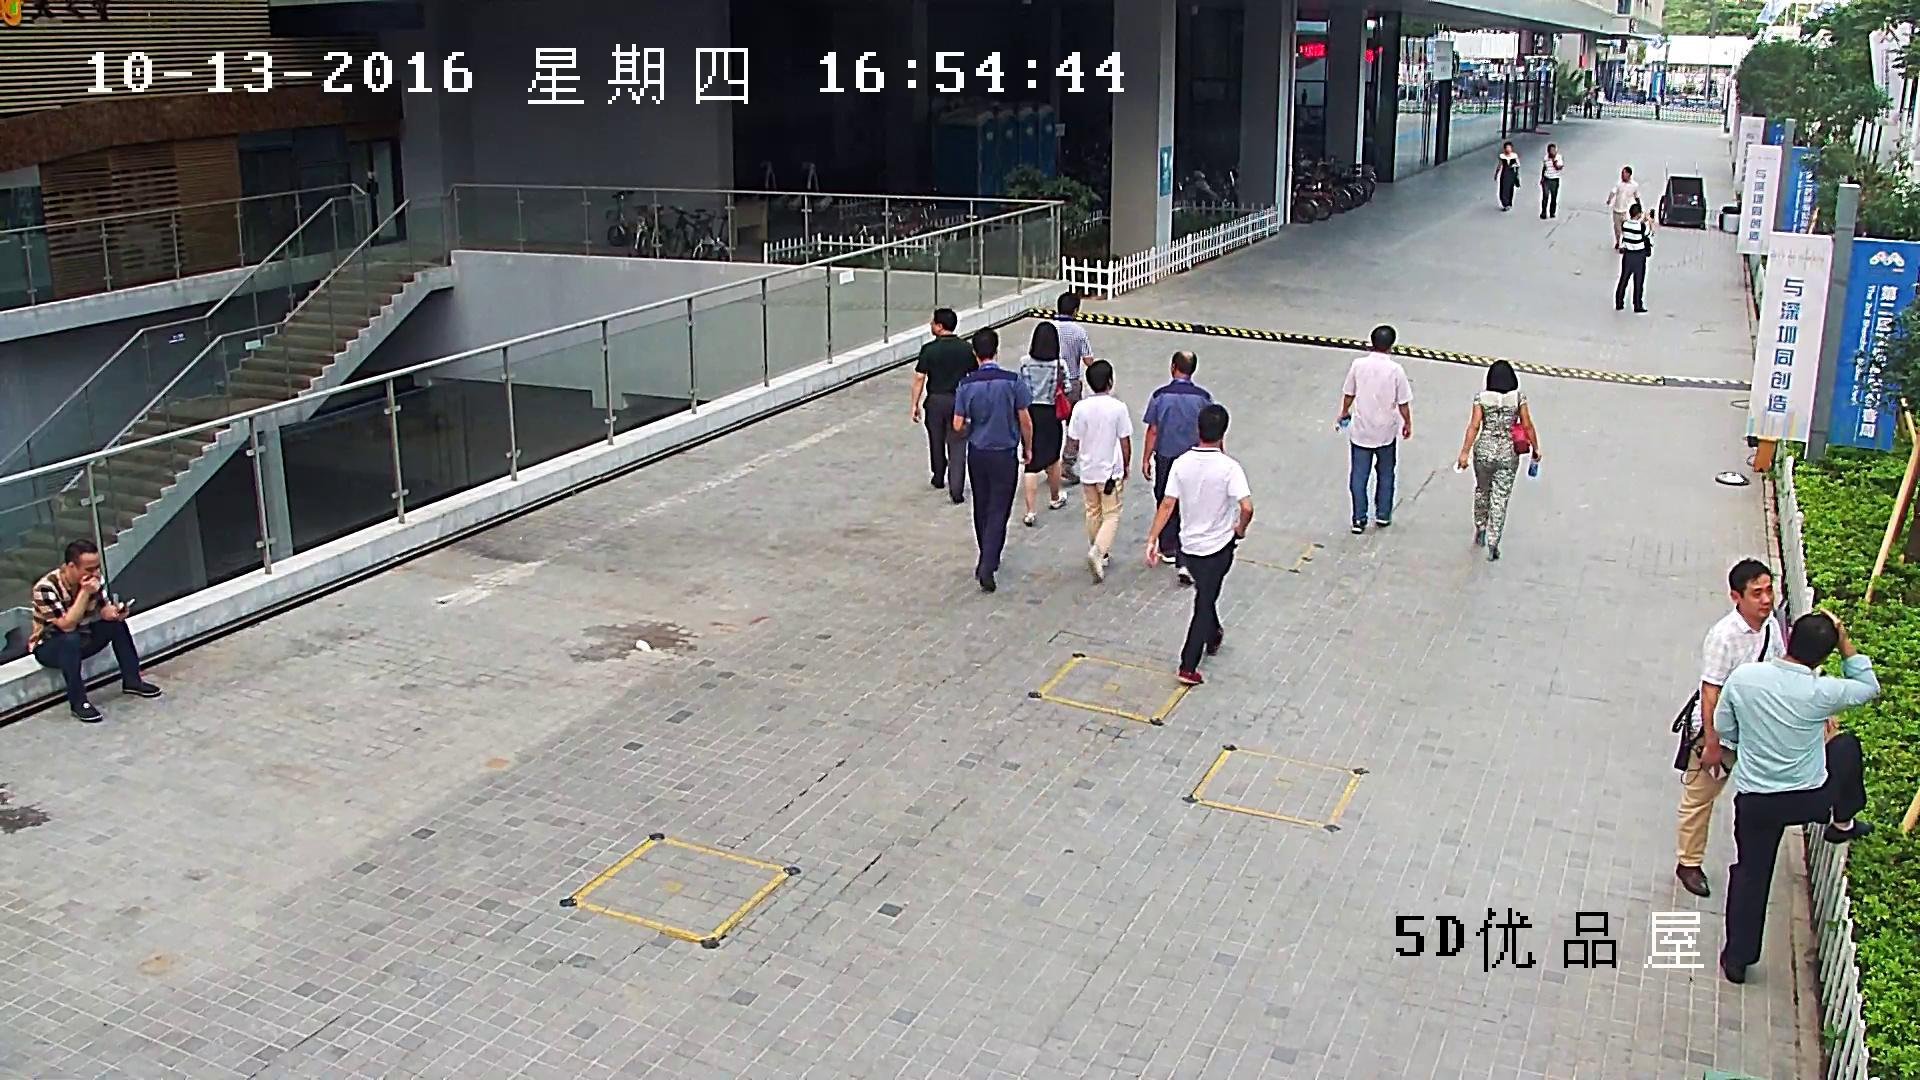person: (1713, 608, 1880, 983), (1671, 557, 1787, 898), (1146, 404, 1253, 685), (28, 538, 163, 724), (952, 326, 1032, 593), (1141, 351, 1228, 585), (1456, 359, 1543, 560), (1334, 325, 1411, 534), (1068, 359, 1133, 583), (911, 307, 979, 503), (1026, 291, 1093, 484), (1018, 320, 1072, 527), (1615, 203, 1655, 312), (1606, 166, 1643, 250), (1539, 143, 1564, 219), (1494, 141, 1521, 211), (1594, 87, 1605, 119), (1583, 88, 1593, 119)
